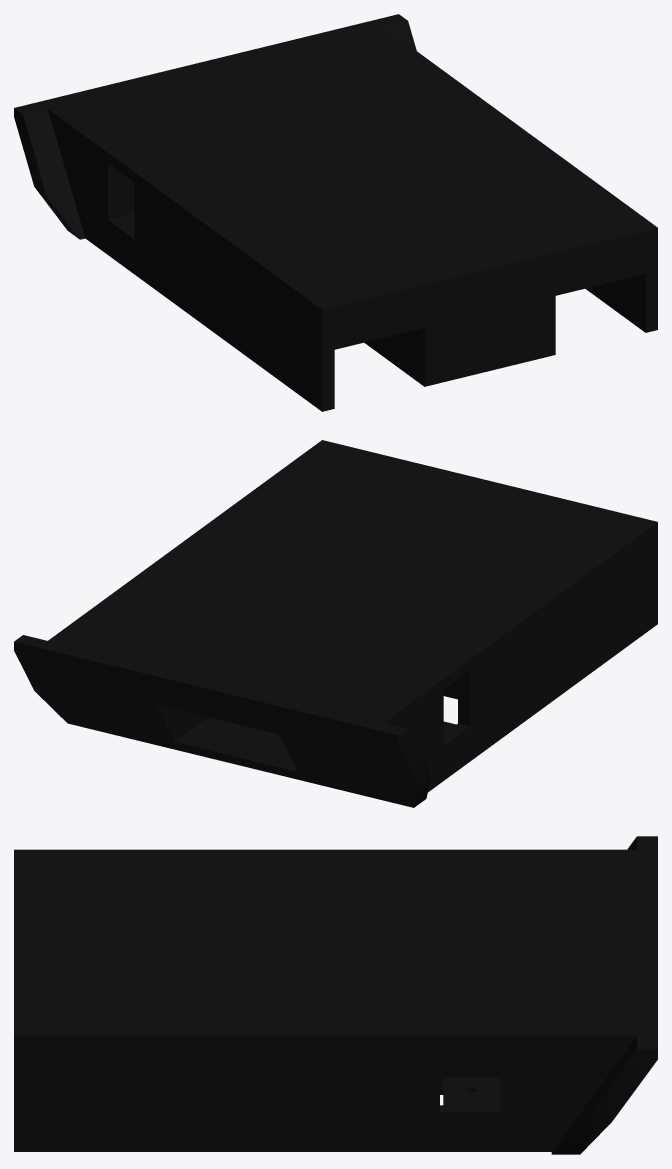
File: korpus_electronica.fbx
3 views of the same model, one above another, from view 1: azimuth 30°, elevation 25°; view 2: azimuth 150°, elevation 25°; view 3: azimuth 270°, elevation 25° (orthographic). The views are drawn at different scales.
Visible parts, largest first — view 1: korpus_electronica.001; view 2: korpus_electronica.001; view 3: korpus_electronica.001.
Part boxes in pixels (<box>): korpus_electronica.001: <box>14,14,657,411</box>; korpus_electronica.001: <box>14,440,657,807</box>; korpus_electronica.001: <box>14,836,657,1154</box>.
Bounding box in the file's own units: 9.4 × 2.39 × 12.
Materials: 1 (1 with a texture image).
